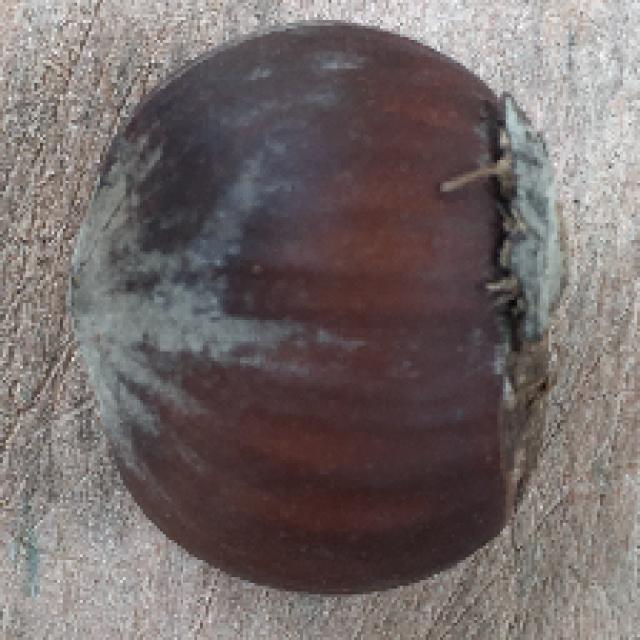damagedHazelnut: (70, 20, 579, 598)
